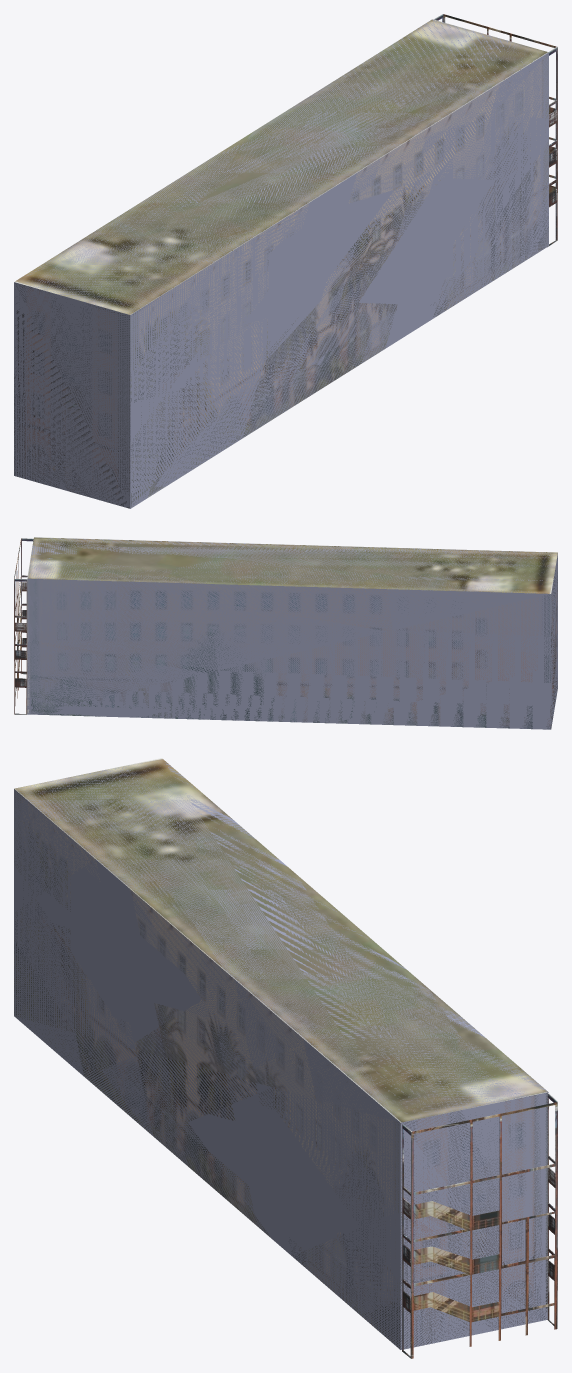
Rendered from Edificio Teología 2.fbx.
The picture shows the model from 3 angles, top to bottom: view 1: azimuth 30°, elevation 25°; view 2: azimuth 150°, elevation 25°; view 3: azimuth 270°, elevation 25°; orthographic projection. The views are drawn at different scales.
Parts seen in each view (by area): view 1: Group1, Group3; view 2: Group1, Group2, Group3; view 3: Group1, Group3, Group2.
Boxes of the visible parts, bbox=[...] form: Group1: bbox=[14, 14, 557, 508]; Group3: bbox=[547, 47, 557, 247]; Group1: bbox=[14, 537, 557, 729]; Group2: bbox=[14, 579, 27, 714]; Group3: bbox=[21, 538, 33, 674]; Group1: bbox=[14, 758, 557, 1358]; Group3: bbox=[402, 1124, 411, 1358]; Group2: bbox=[547, 1093, 557, 1325].
Bounding box in the file's own units: 66.08 × 18.96 × 40.78.
